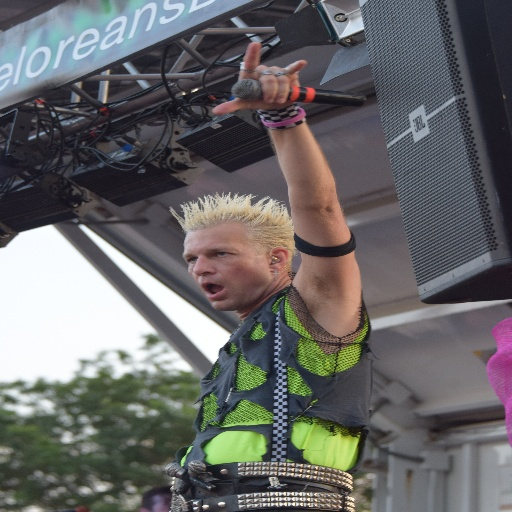hand: (228, 53, 325, 118)
